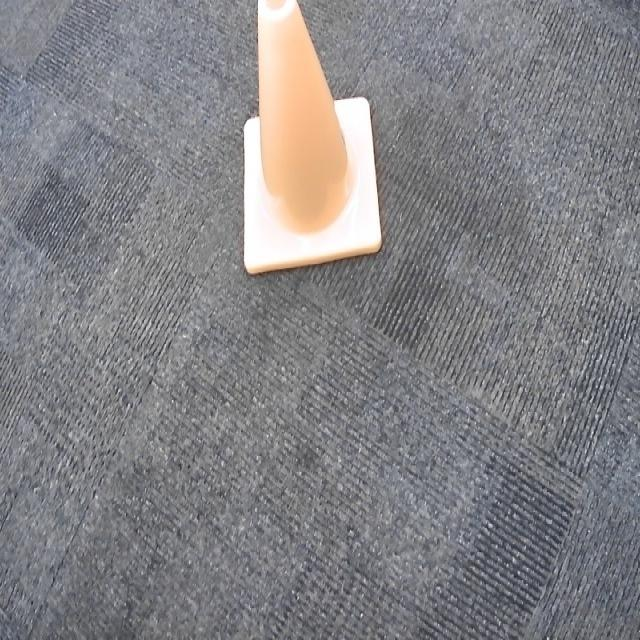cone: (243, 0, 383, 282)
